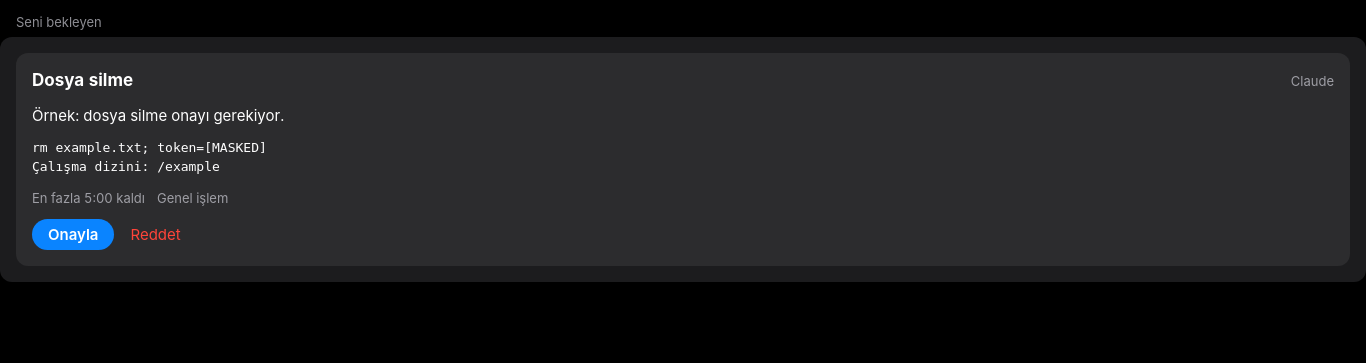
live_request_reconciles_and_resolution_failure_remains_visible
The width and height of the screenshot is (1366, 363).
Later steps or results of the test are not shown.
Expected: the element "Dosya silme" is shown, [16,53,1350,266]
Click the button "Reddet". click: (156, 235)
box: [126,219,185,250]
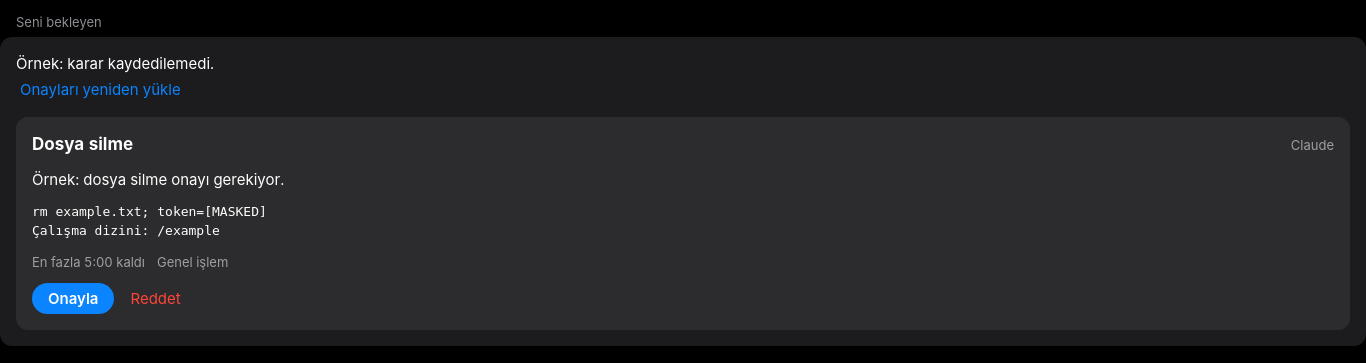
Expected: the element "Dosya silme" is shown, [16,117,1350,330]
Result: the message shows "karar kaydedilemedi" at [16,54,214,73]
